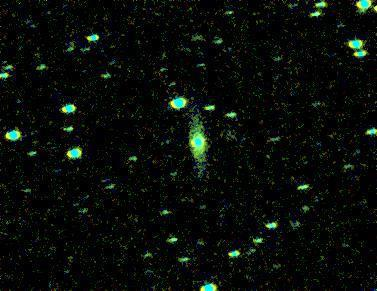star: (362, 0, 377, 24)
